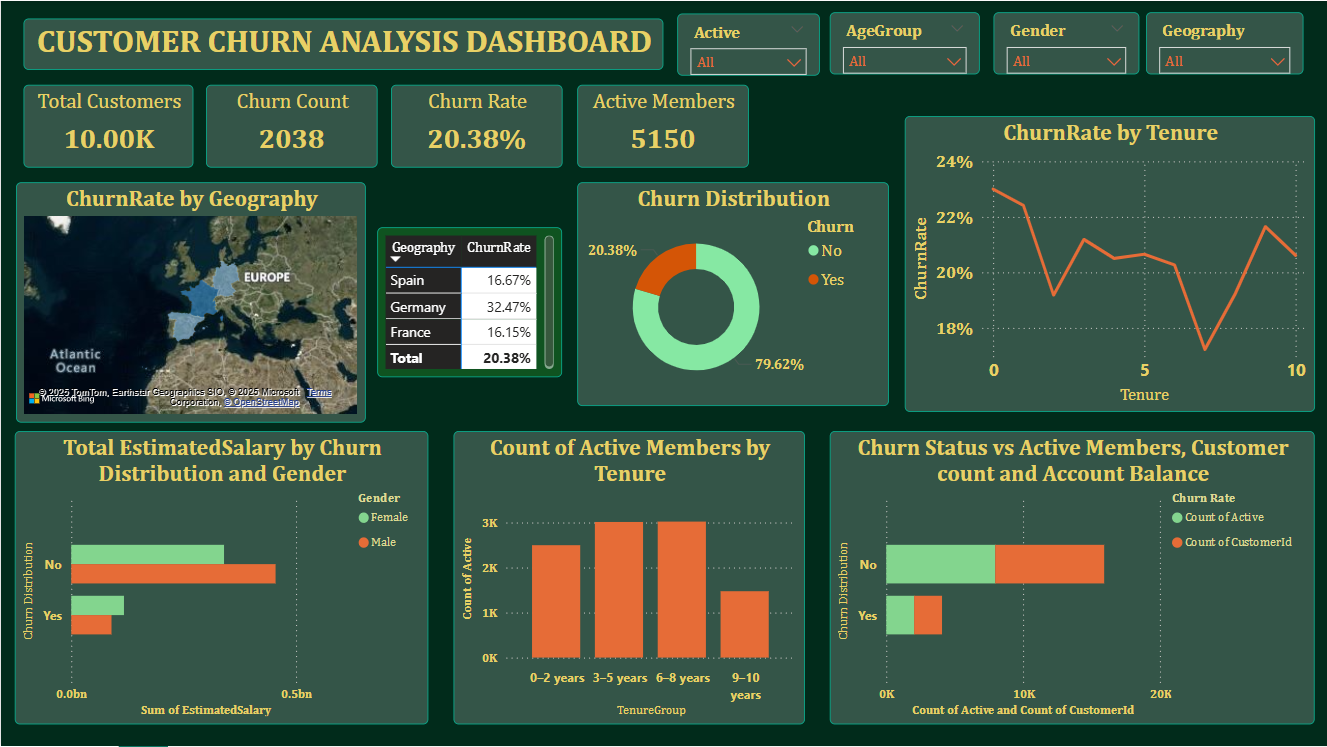

This screenshot's page, from the dashboard's own definition file:
{"tool":"powerbi","page":{"name":"Customer_churn_DB","canvas":[1280,720],"ordinal":0},"visuals":[{"type":"card","title":"Total Customers","fields":{"Values":["CountNonNull(Churn_Modelling.CustomerId)"]},"box":[21.7,80.8,164.1,79.6],"z":0},{"type":"donutChart","title":"Churn Distribution ","fields":{"Y":["CountNonNull(Churn_Modelling.CustomerId)"],"Category":["Churn_Modelling.Churn Distribution"]},"box":[556.2,174.9,300.4,216],"z":1000},{"type":"filledMap","fields":{"Category":["Churn_Modelling.Geography"]},"box":[14.5,174.9,337.8,231.6],"z":2000},{"type":"pivotTable","fields":{"Rows":["Churn_Modelling.Geography"],"Values":["Churn_Modelling.ChurnRate"]},"box":[363.1,218.4,178.6,144.8],"z":3000},{"type":"clusteredBarChart","title":"Total EstimatedSalary by Churn Distribution and Gender","fields":{"Series":["Churn_Modelling.Gender"],"Category":["Churn_Modelling.Churn Distribution"],"Y":["Sum(Churn_Modelling.EstimatedSalary)"]},"box":[13.3,415,399.3,283.5],"z":4000},{"type":"barChart","title":"Churn Status vs Active Members, Customer count and Account Balance","fields":{"Category":["Churn_Modelling.Churn Distribution"],"Y":["CountNonNull(Churn_Modelling.Active)","CountNonNull(Churn_Modelling.CustomerId)"]},"box":[799.9,415,468.1,283.5],"z":5000},{"type":"card","title":"Churn Count","fields":{"Values":["Sum(Churn_Modelling.Churn)"]},"box":[197.9,80.8,165.3,79.6],"z":6000},{"type":"card","title":"Churn Rate","fields":{"Values":["Churn_Modelling.ChurnRate"]},"box":[376.4,80.8,165.3,79.6],"z":7000},{"type":"lineChart","fields":{"Category":["Churn_Modelling.Tenure"],"Y":["Churn_Modelling.ChurnRate"]},"box":[872.3,111,395.7,285.9],"z":8000},{"type":"slicer","fields":{"Values":["Churn_Modelling.Geography"]},"box":[1105.1,10.9,152,60.3],"z":9000},{"type":"slicer","fields":{"Values":["Churn_Modelling.Gender"]},"box":[957.9,10.9,141.2,60.3],"z":10000},{"type":"slicer","fields":{"Values":["Churn_Modelling.AgeGroup"]},"box":[799.9,10.9,144.8,60.3],"z":11000},{"type":"slicer","fields":{"Values":["Churn_Modelling.Active"]},"box":[652.7,12.1,137.5,60.3],"z":12000},{"type":"textbox","title":"CUSTOMER CHURN ANALYSIS DASHBOARD","box":[21.7,16.9,617.7,49.5],"z":13000},{"type":"columnChart","title":"Count of Active Members by Tenure","fields":{"Y":["CountNonNull(Churn_Modelling.Active)"],"Category":["Churn_Modelling.TenureGroup"]},"box":[436.7,415,339,283.5],"z":14000},{"type":"card","title":"Active Members","fields":{"Values":["Churn_Modelling.ActiveMembers"]},"box":[556.2,80.8,165.3,79.6],"z":15000}]}

Visuals, with their boxes in screenshot pixels (x1, y1, x2, y2), scaled from the page's 1280x720 canvas onto the 1327x747 screenshot:
"Total Customers" card: box=[22, 84, 193, 166]
"Churn Distribution " donutChart: box=[577, 181, 888, 406]
filledMap - Churn_Modelling.Geography: box=[15, 181, 365, 422]
pivotTable - Churn_Modelling.Geography x Churn_Modelling.ChurnRate: box=[376, 227, 562, 377]
"Total EstimatedSalary by Churn Distribution and Gender" clusteredBarChart: box=[14, 431, 428, 725]
"Churn Status vs Active Members, Customer count and Account Balance" barChart: box=[829, 431, 1315, 725]
"Churn Count" card: box=[205, 84, 377, 166]
"Churn Rate" card: box=[390, 84, 562, 166]
lineChart - Churn_Modelling.Tenure x Churn_Modelling.ChurnRate: box=[904, 115, 1315, 412]
slicer - Churn_Modelling.Geography: box=[1146, 11, 1303, 74]
slicer - Churn_Modelling.Gender: box=[993, 11, 1139, 74]
slicer - Churn_Modelling.AgeGroup: box=[829, 11, 979, 74]
slicer - Churn_Modelling.Active: box=[677, 13, 819, 75]
"CUSTOMER CHURN ANALYSIS DASHBOARD" textbox: box=[22, 18, 663, 69]
"Count of Active Members by Tenure" columnChart: box=[453, 431, 804, 725]
"Active Members" card: box=[577, 84, 748, 166]
